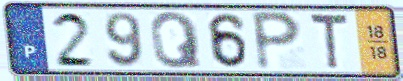2: (49, 10, 96, 69)
6: (205, 11, 250, 70)
9: (105, 10, 146, 69)
P: (249, 9, 305, 73)
Q: (148, 10, 206, 71)
T: (307, 11, 351, 73)
